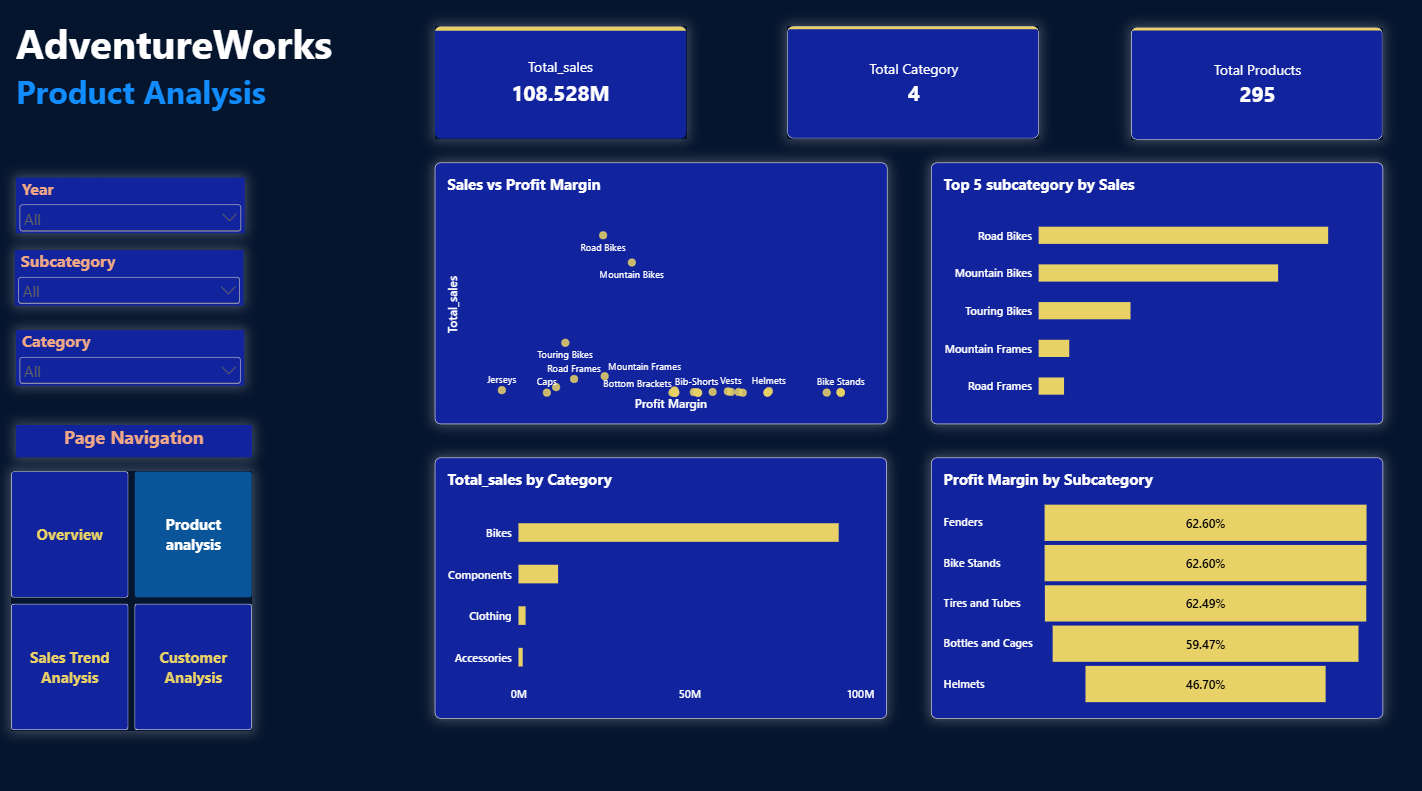

The page's visual inventory and layout, read from the dashboard file:
{"tool":"powerbi","page":{"name":"Product analysis","canvas":[1920,1080],"ordinal":1},"visuals":[{"type":"textbox","box":[27.1,29,470.5,161.1],"z":0},{"type":"slicer","fields":{"Values":["Date.Date.Variation.Date Hierarchy.Year"]},"box":[27.1,244.3,305.9,74.4],"z":1000},{"type":"pageNavigator","box":[19.9,637,322.1,347.5],"z":2000},{"type":"textbox","box":[27.1,573.7,314.9,43.4],"z":3000},{"type":"slicer","fields":{"Values":["Product.Category"]},"box":[27.1,447,305,74],"z":4000},{"type":"cardVisual","fields":{"Data":["Sales.Total_sales"]},"box":[586.3,41.6,336.6,150.2],"z":5000},{"type":"cardVisual","fields":{"Data":["Product.Total Category"]},"box":[1056.8,41.6,336,150.2],"z":6000},{"type":"cardVisual","fields":{"Data":["Product.Total Products"]},"box":[1516.5,43.4,336,150.2],"z":7000},{"type":"clusteredBarChart","fields":{"Category":["Product.Product hierarchy.Category","Product.Product hierarchy.Subcategory","Product.Product hierarchy.Product"],"Y":["Sales.Total_sales"]},"box":[586.3,617.1,604,349],"z":8000},{"type":"scatterChart","title":"Sales vs Profit Margin","fields":{"Category":["Product.Subcategory"],"X":["Sales.Profit Margin"],"Y":["Sales.Total_sales"]},"box":[586.3,224.4,604.4,349.3],"z":9000},{"type":"barChart","title":"Top 5 subcategory by Sales","fields":{"Category":["Product.Subcategory"],"Y":["Sales.Total_sales"]},"box":[1248.7,224.4,604,349.3],"z":10000},{"type":"funnel","fields":{"Category":["Product.Subcategory"],"Y":["Sales.Profit Margin"]},"box":[1248.7,617.1,604,349],"z":11000},{"type":"slicer","fields":{"Values":["Product.Subcategory"]},"box":[25.3,340.2,305.9,74.4],"z":12000}]}

Visuals, with their boxes in screenshot pixels (x1, y1, x2, y2), scaled from the page's 1920x1080 canvas onto the 1422x791 screenshot:
textbox: crop(20, 21, 369, 139)
slicer - Date.Date.Variation.Date Hierarchy.Year: crop(20, 179, 247, 233)
pageNavigator: crop(15, 467, 253, 721)
textbox: crop(20, 420, 253, 452)
slicer - Product.Category: crop(20, 327, 246, 382)
cardVisual - Sales.Total_sales: crop(434, 30, 684, 140)
cardVisual - Product.Total Category: crop(783, 30, 1032, 140)
cardVisual - Product.Total Products: crop(1123, 32, 1372, 142)
clusteredBarChart - Product.Product hierarchy.Category x Product.Product hierarchy.Subcategory: crop(434, 452, 882, 708)
"Sales vs Profit Margin" scatterChart: crop(434, 164, 882, 420)
"Top 5 subcategory by Sales" barChart: crop(925, 164, 1372, 420)
funnel - Product.Subcategory x Sales.Profit Margin: crop(925, 452, 1372, 708)
slicer - Product.Subcategory: crop(19, 249, 245, 304)
